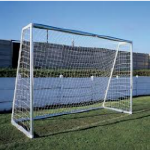goals: (10, 21, 135, 140)
